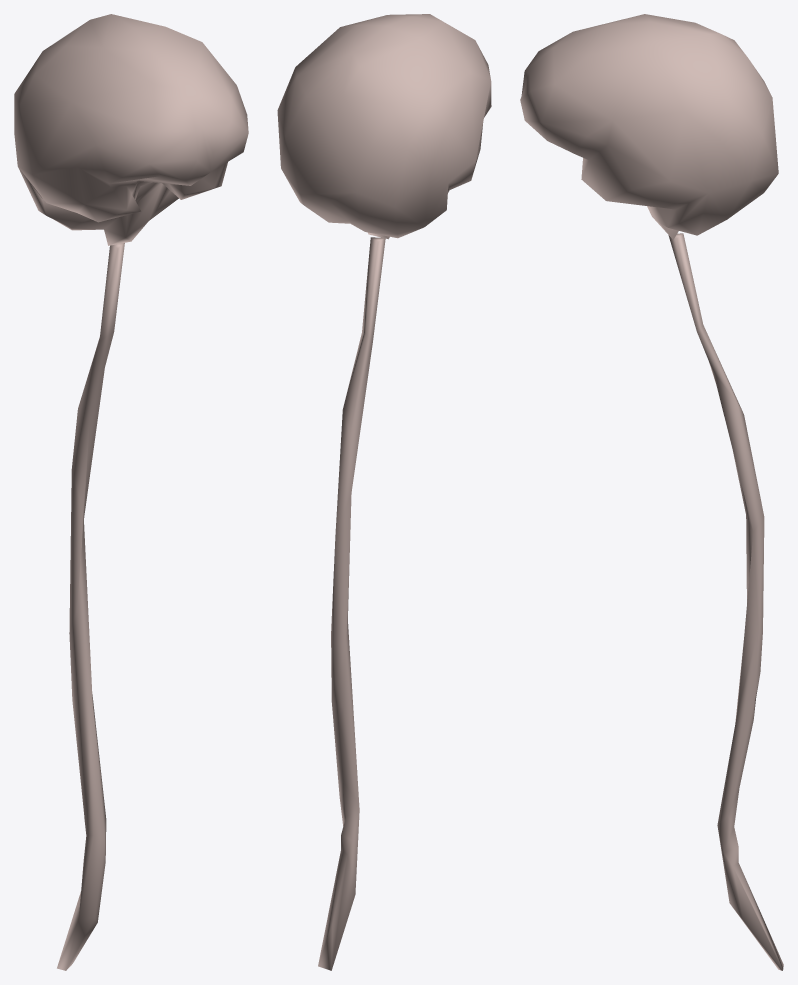
File: pediatric_child_10y_female.nervous.LOD3.glb
3 views of the same model, side by side, from view 1: azimuth 30°, elevation 25°; view 2: azimuth 150°, elevation 25°; view 3: azimuth 270°, elevation 25° (orthographic). The views are drawn at different scales.
Visible parts, largest first — view 1: PEDIATRIC.CHILD_10Y.FEMALE.NERVOUS.BRAIN, PEDIATRIC.CHILD_10Y.FEMALE.NERVOUS.SPINAL_CORD; view 2: PEDIATRIC.CHILD_10Y.FEMALE.NERVOUS.BRAIN, PEDIATRIC.CHILD_10Y.FEMALE.NERVOUS.SPINAL_CORD; view 3: PEDIATRIC.CHILD_10Y.FEMALE.NERVOUS.BRAIN, PEDIATRIC.CHILD_10Y.FEMALE.NERVOUS.SPINAL_CORD.
Boxes of the visible parts, x1,y1,x2,y2 form: PEDIATRIC.CHILD_10Y.FEMALE.NERVOUS.BRAIN: (14, 14, 248, 245); PEDIATRIC.CHILD_10Y.FEMALE.NERVOUS.SPINAL_CORD: (57, 243, 124, 970); PEDIATRIC.CHILD_10Y.FEMALE.NERVOUS.BRAIN: (277, 14, 491, 239); PEDIATRIC.CHILD_10Y.FEMALE.NERVOUS.SPINAL_CORD: (318, 237, 385, 970); PEDIATRIC.CHILD_10Y.FEMALE.NERVOUS.BRAIN: (520, 14, 778, 239); PEDIATRIC.CHILD_10Y.FEMALE.NERVOUS.SPINAL_CORD: (668, 233, 783, 970).
Bounding box in the file's own units: 0.1304 × 0.6369 × 0.1604.
